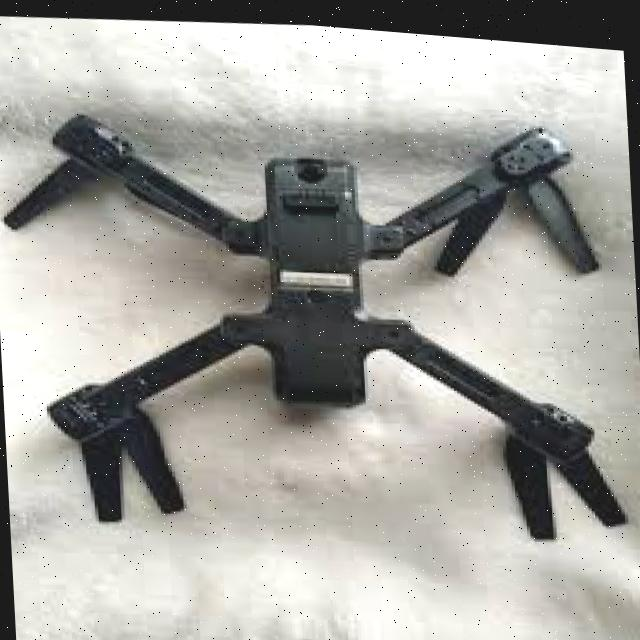drone: (0, 48, 640, 578)
